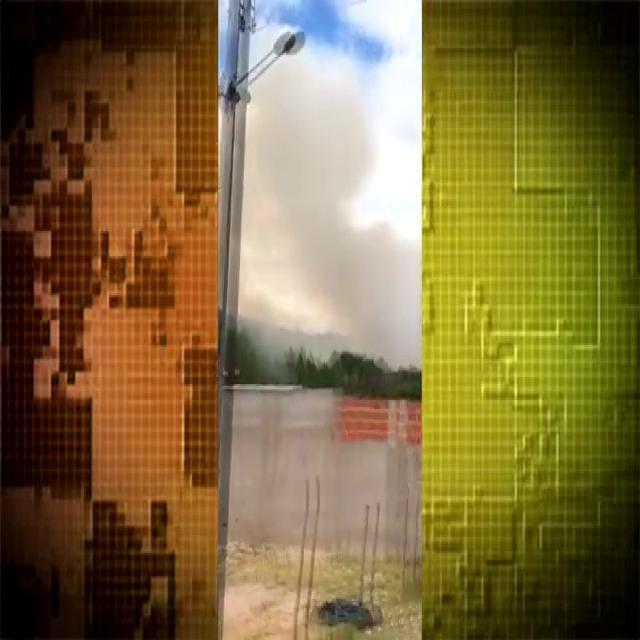Smoke: (214, 48, 428, 382)
